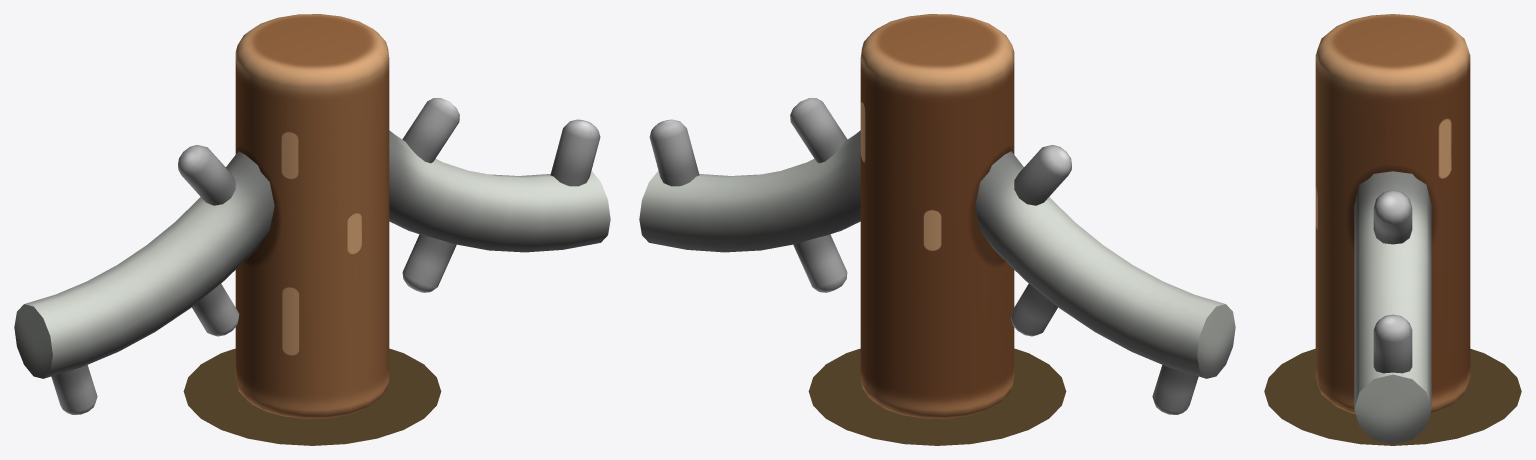
The model's file is FenceC_2side.fbx.
3 views of the same model, side by side, from view 1: azimuth 30°, elevation 25°; view 2: azimuth 150°, elevation 25°; view 3: azimuth 270°, elevation 25° (orthographic).
Parts seen in each view (by area): view 1: fenceWood, RLine, LLine, fenceC2side_SDW; view 2: fenceWood, RLine, LLine, fenceC2side_SDW; view 3: fenceWood, LLine, fenceC2side_SDW.
Part boxes in pixels (<box>): fenceWood: <box>235,14,389,418</box>; RLine: <box>14,145,274,414</box>; LLine: <box>389,98,610,292</box>; fenceC2side_SDW: <box>183,348,441,445</box>; fenceWood: <box>860,14,1014,418</box>; RLine: <box>975,145,1235,414</box>; LLine: <box>639,98,860,292</box>; fenceC2side_SDW: <box>808,348,1066,445</box>; fenceWood: <box>1315,14,1470,413</box>; LLine: <box>1354,171,1431,444</box>; fenceC2side_SDW: <box>1264,348,1521,445</box>.
Bounding box in the file's own units: 101 × 60 × 40.
Materials: 2 (1 with a texture image).
